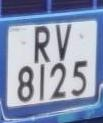1: (36, 61, 50, 106)
2: (47, 60, 70, 104)
5: (67, 55, 92, 104)
8: (13, 63, 39, 106)
R: (29, 20, 55, 68)
V: (52, 20, 77, 64)
